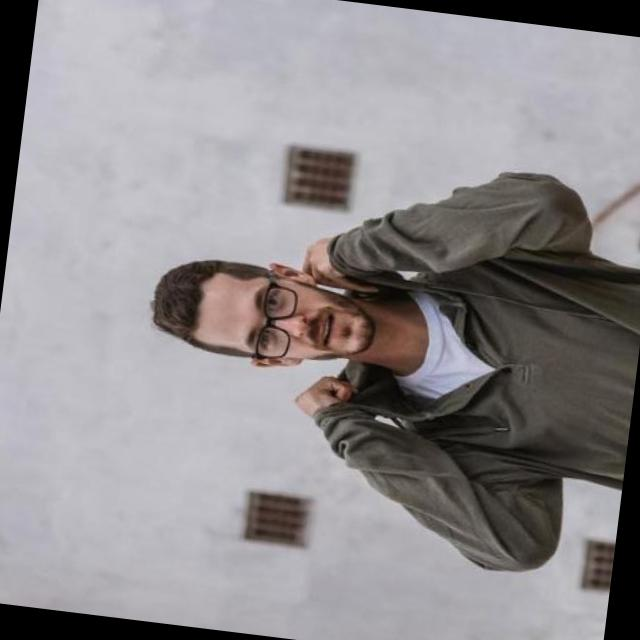bareface: (168, 258, 372, 368)
